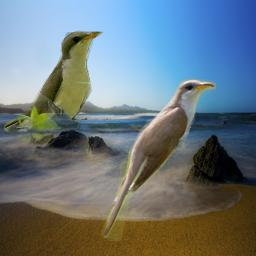Cuckoo: (99, 79, 216, 241), (4, 28, 104, 146)
